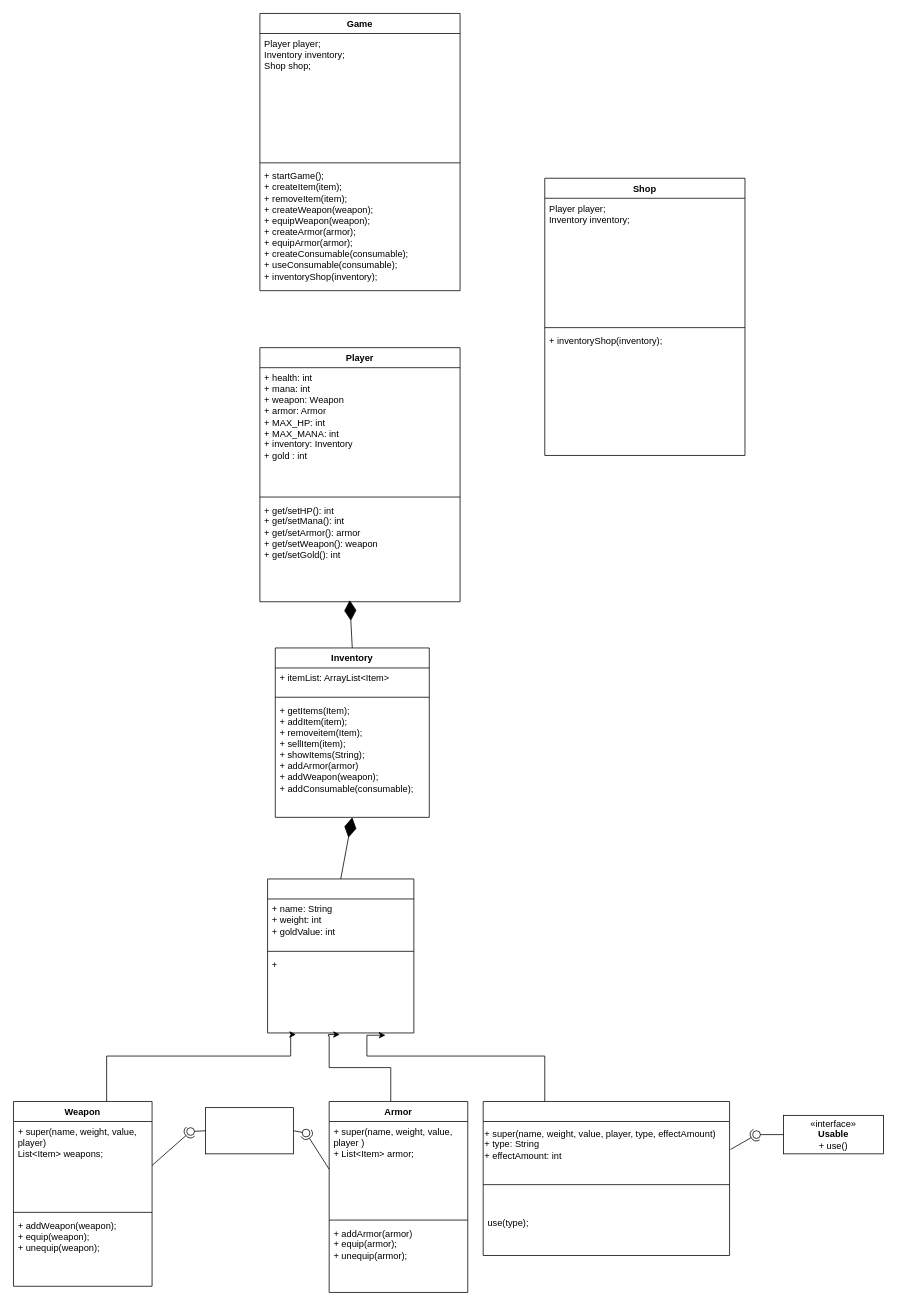
The diagram is 897 pixels wide and 1308 high, and some of its shapes have lost their labels. The box of each missing label's shape, as (x1, y1, x2, y2) in pixels:
Consumable: (482, 1101, 730, 1255)
Item: (267, 878, 414, 1033)
«interface» Equippable +equip() +unequip(): (205, 1107, 293, 1154)
